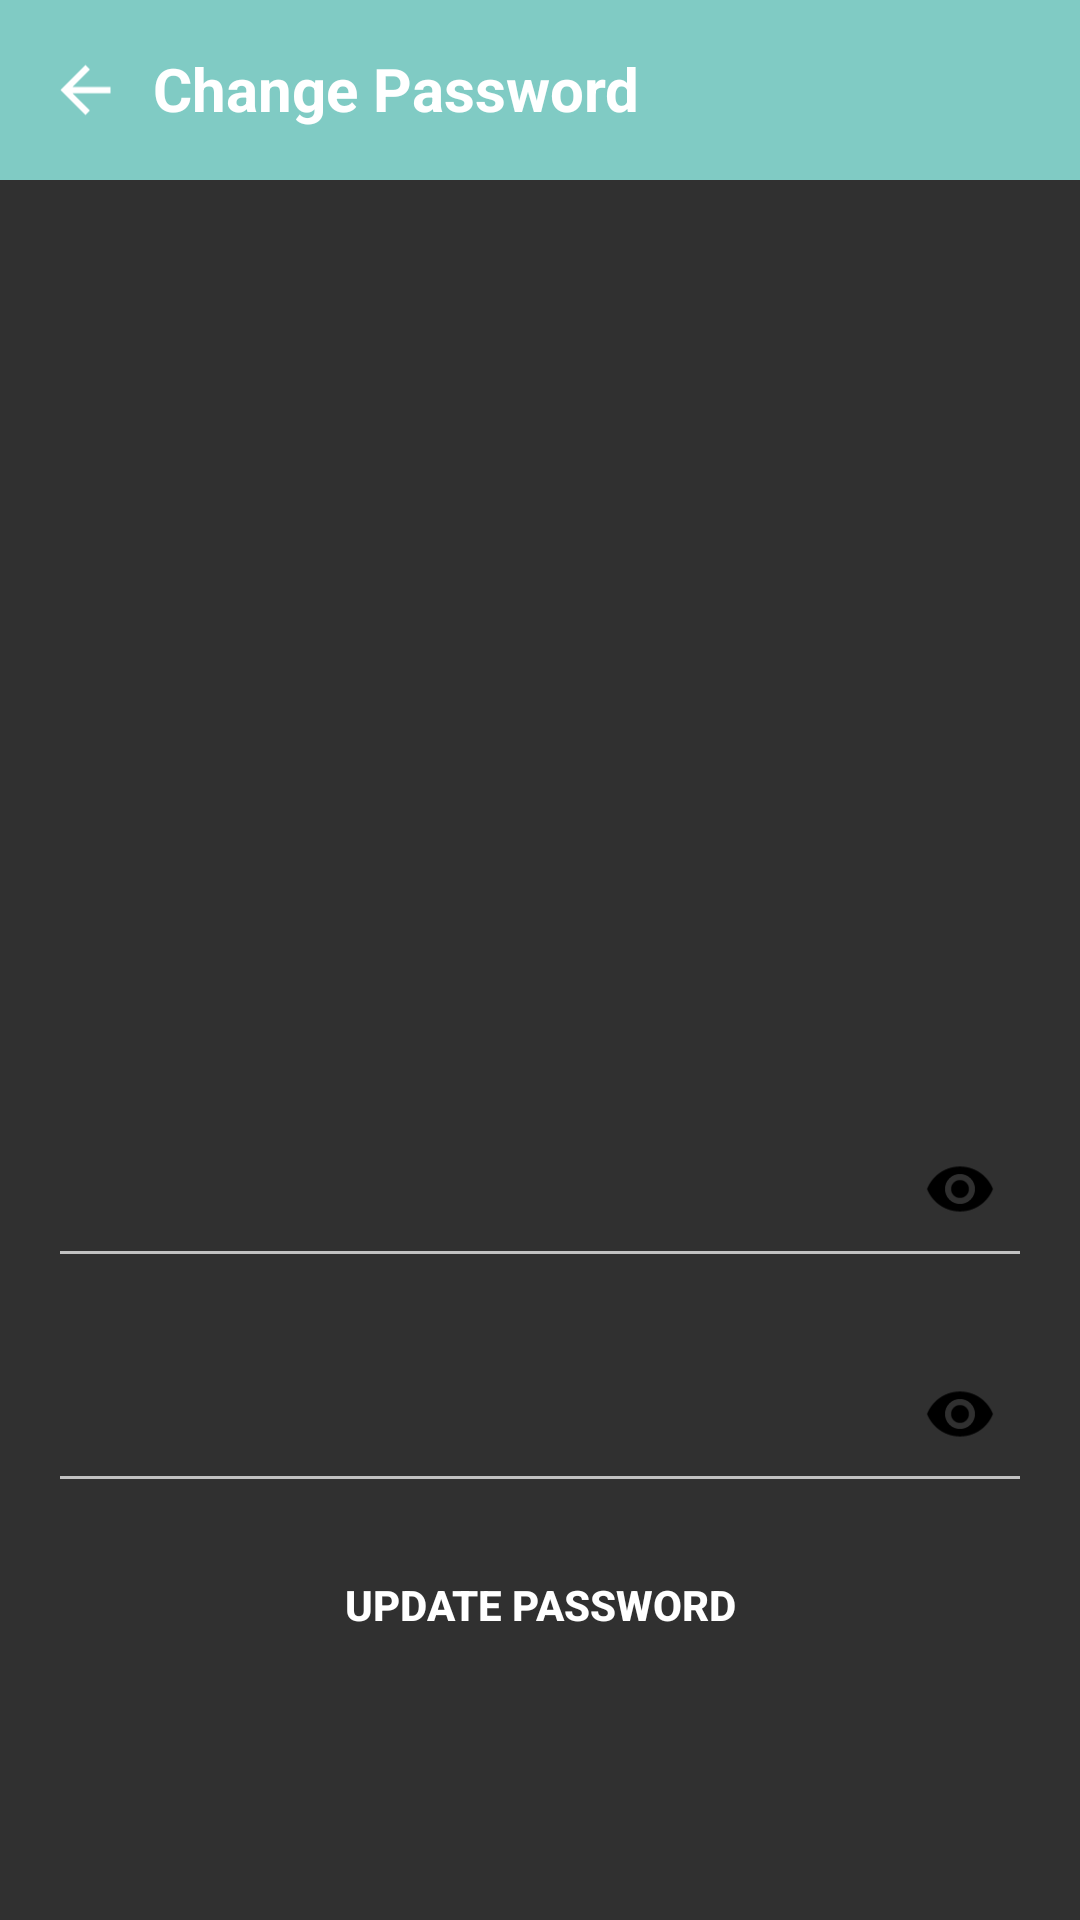

Locate icon controls on the screen. Image size 1080 x 1920, boxes as (x1, y1, x2, y2).
arrow back: (61, 65, 111, 115)
